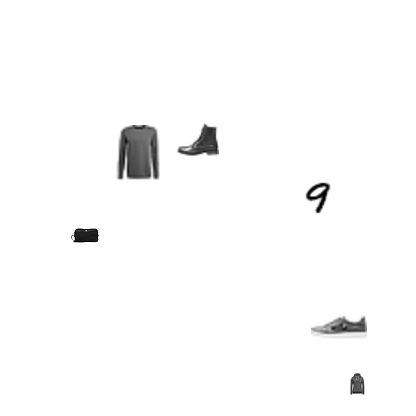2: (18, 45, 60, 87)
3: (281, 54, 323, 96)
Ankle_boot: (116, 88, 144, 116)
Coat: (244, 107, 300, 163)
Sandal: (125, 114, 209, 198)
Shirt: (49, 319, 91, 361)
Trouser: (59, 44, 87, 72)
